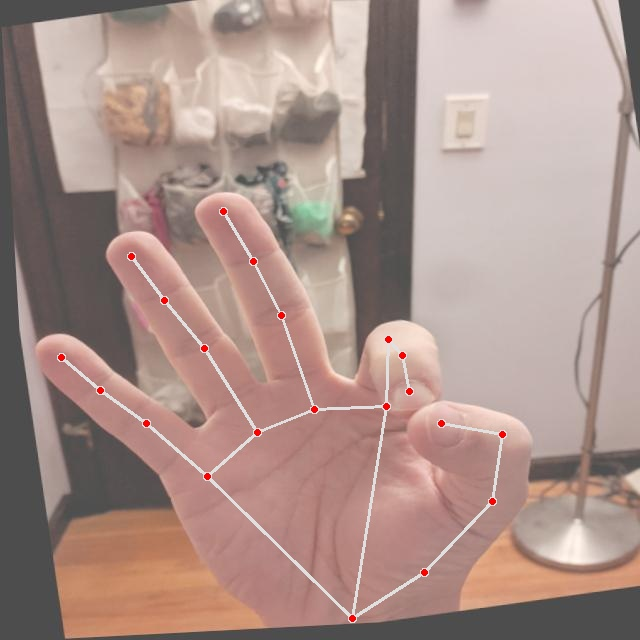F: (8, 150, 558, 639)
